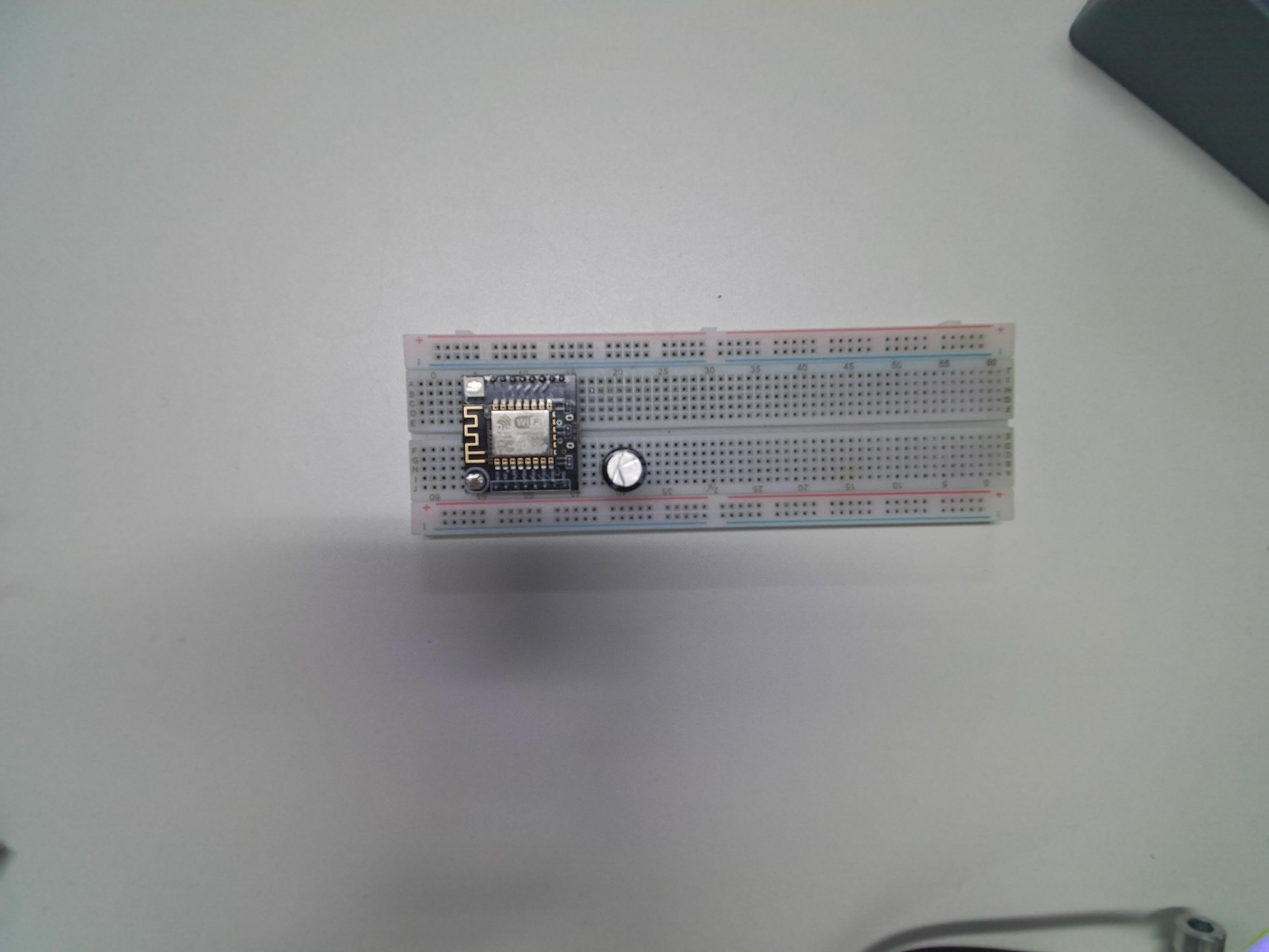base: (405, 325, 1021, 539)
capacitor: (604, 445, 646, 493)
esp: (460, 374, 583, 497)
